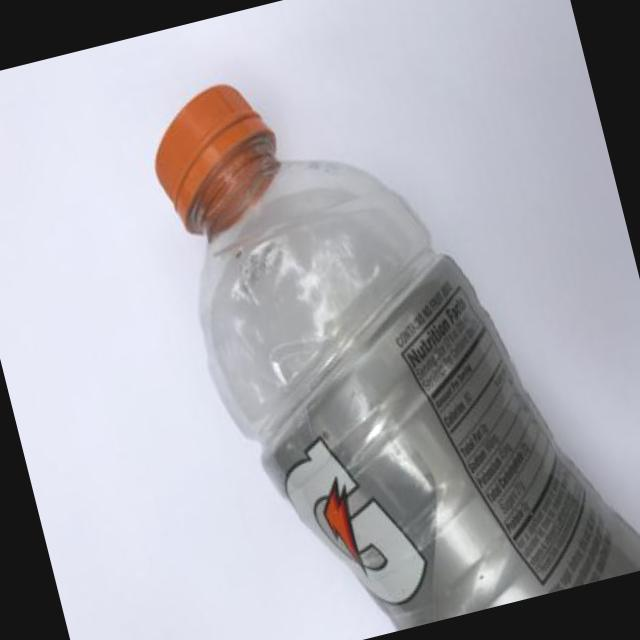Recycle: (136, 3, 640, 640)
